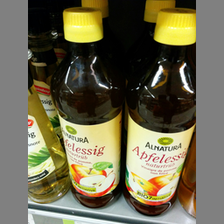vinegar: (50, 7, 125, 208), (123, 8, 195, 217)
